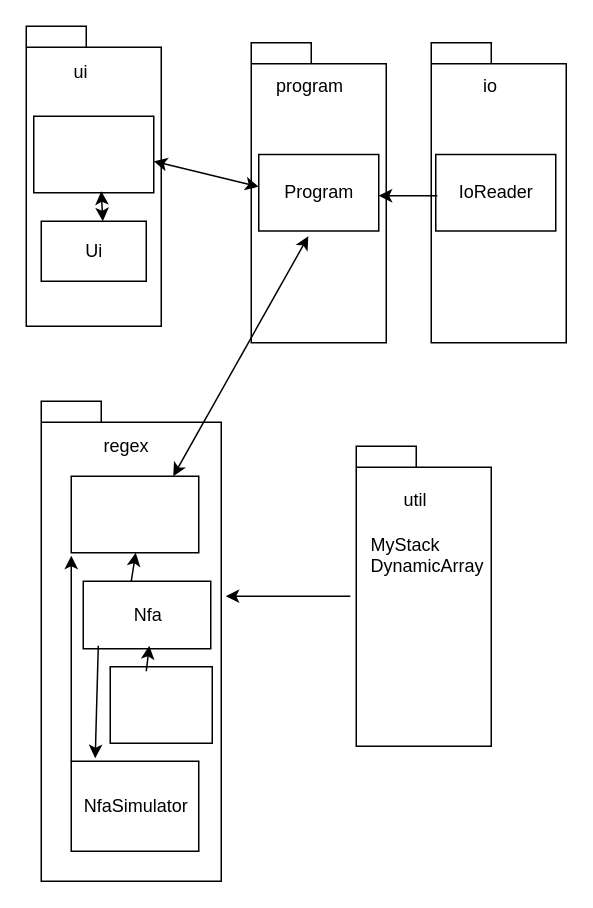
Image size: 593x908. Some labels were removed from this diagram. The centre of each missing label's shape, as x and y in pixels:
"InfixTo- Postfix- Parser" goes at (x=160, y=704).
"RegexMatcher" goes at (x=134, y=514).
"UiController" goes at (x=93, y=154).
